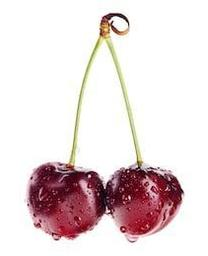cherry: (26, 162, 107, 238), (107, 165, 183, 236)
